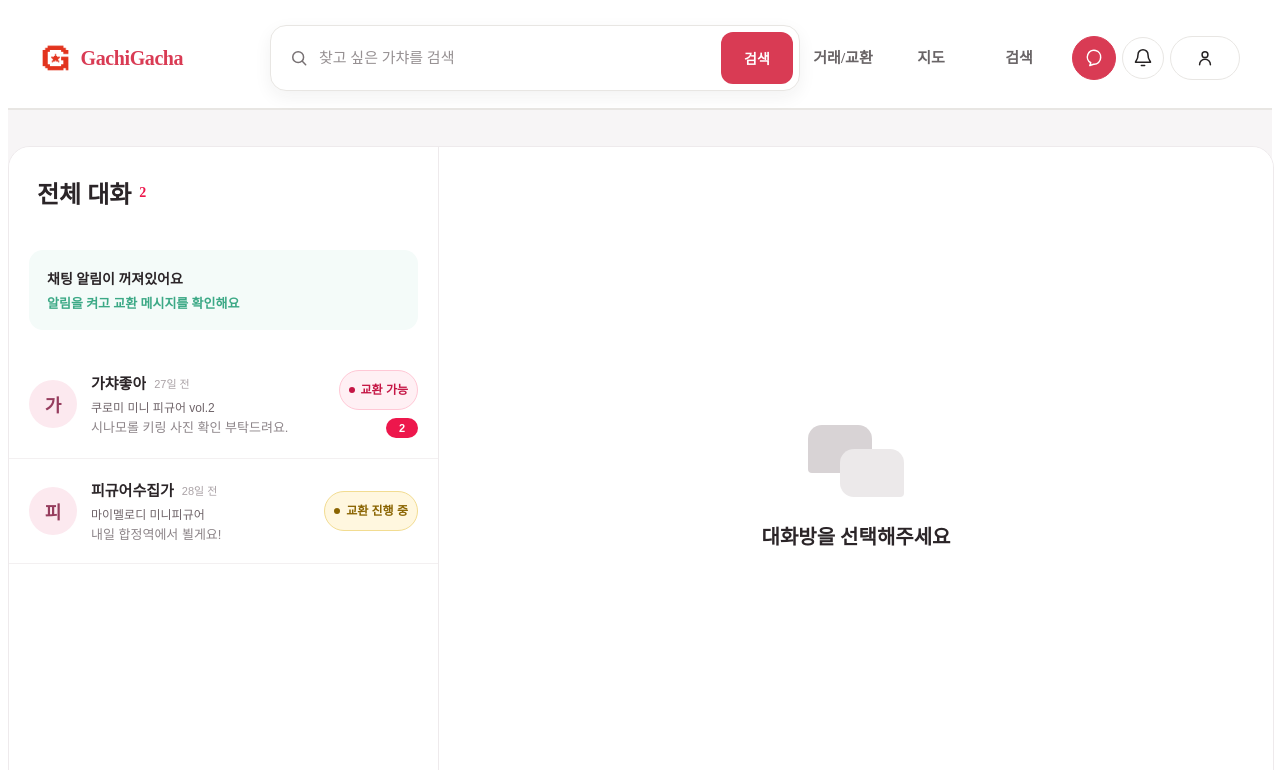
Test case: ChatRoute › 선택한 채팅방 조회가 실패해도 다른 채팅방 목록을 유지하고 재시도한다
Click the button "가 가챠좋아 27일 전 쿠로미 미니 피규어 vol.2 시나모롤 키링 사진 확인 부탁드려요. 교환 가능 2". click: point(53, 404)
box: [9,350,438,459]
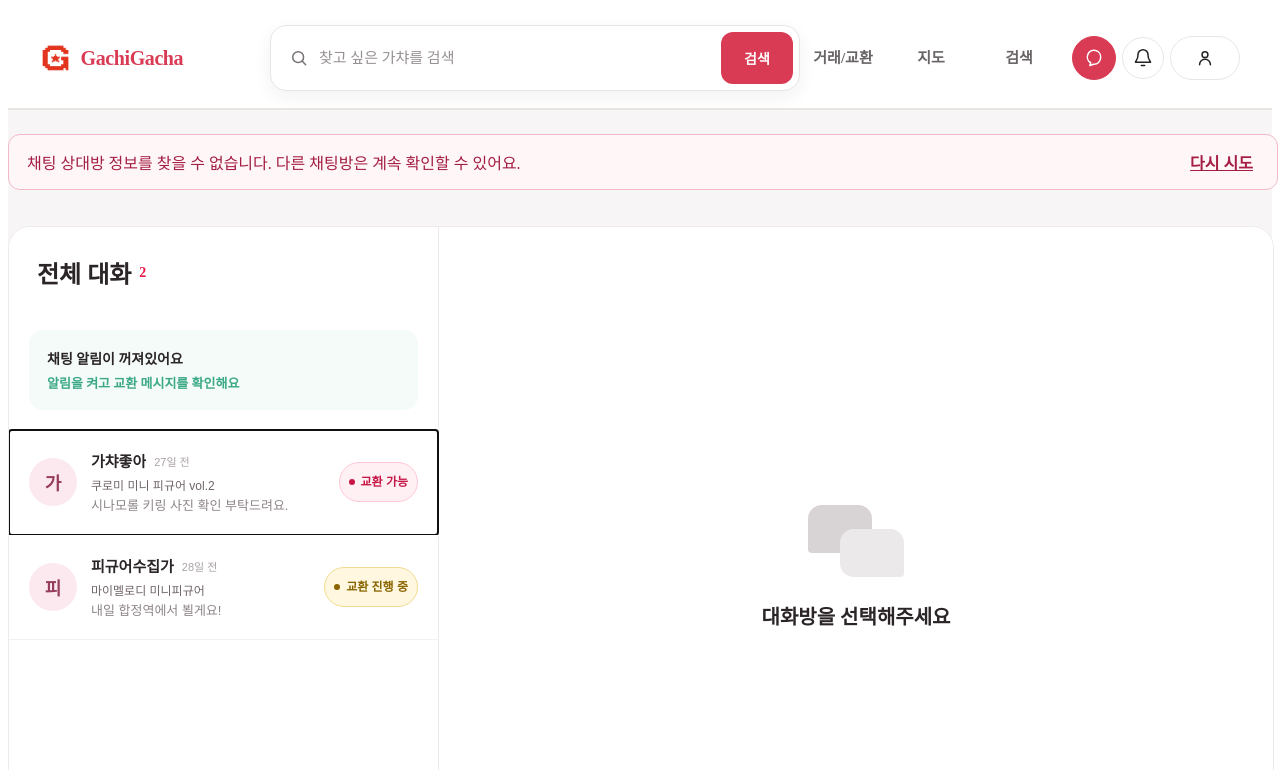
Expected: the button "피 피규어수집가 28일 전 마이멜로디 미니피규어 내일 합정역에서 뵐게요! 교환 진행 중" is shown, [9,535,438,640]
Now the message shows "채팅 상대방 정보를 찾을 수 없습니다.", box [27,155,272,172]
Click the button "다시 시도". click: point(1222, 162)
box: [1184,149,1259,175]
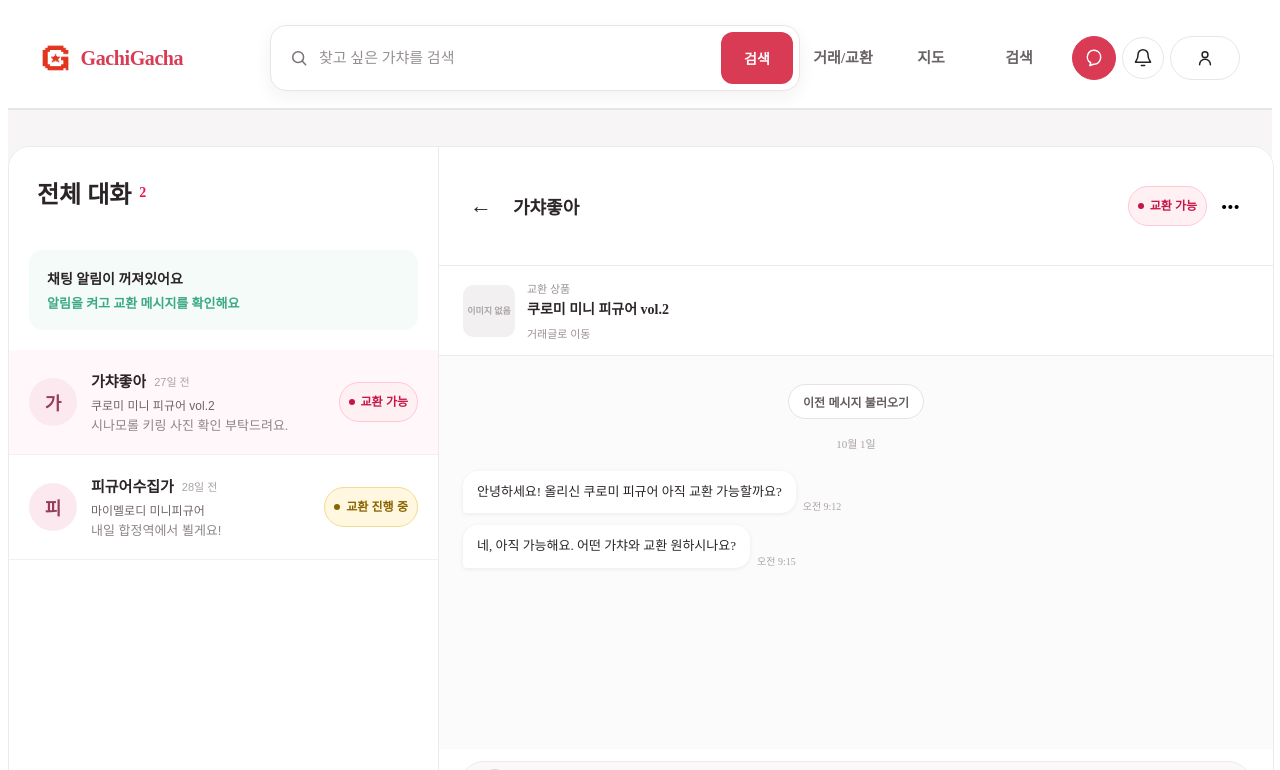
Now the heading "가챠좋아" is shown, box [513,193,579,219]
